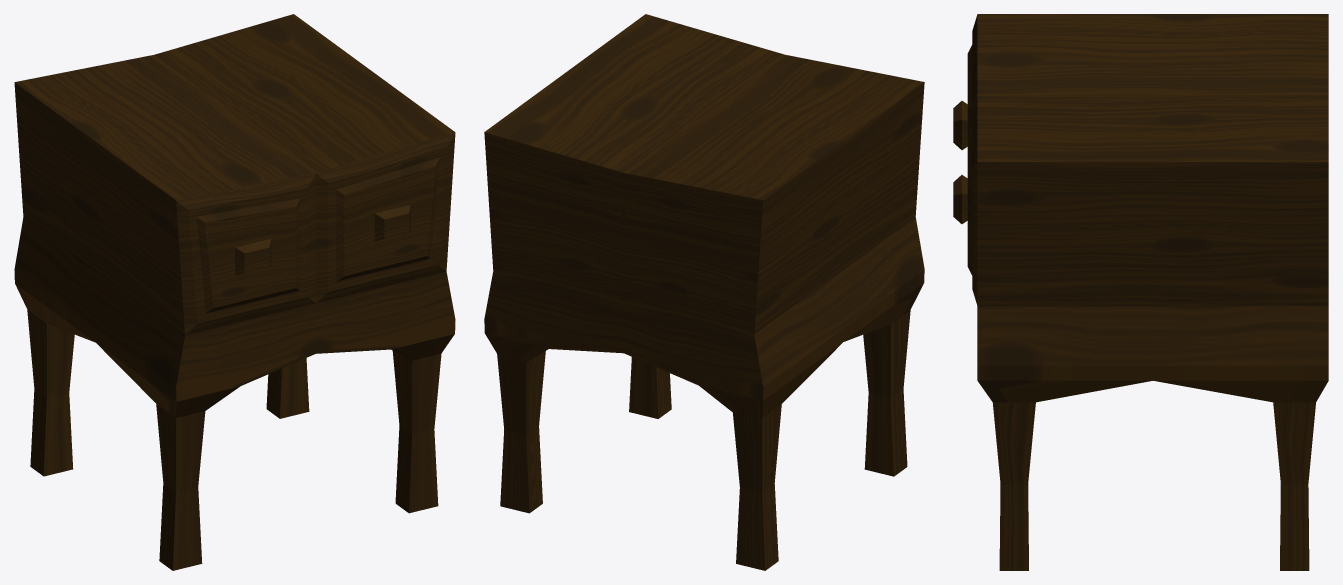
File: Comoda1.fbx
3 views of the same model, side by side, from view 1: azimuth 30°, elevation 25°; view 2: azimuth 150°, elevation 25°; view 3: azimuth 270°, elevation 25° (orthographic). The views are drawn at different scales.
Visible parts, largest first — view 1: Comoda1; view 2: Comoda1; view 3: Comoda1.
Boxes of the visible parts, x1,y1,x2,y2 form: Comoda1: (14,14,455,570); Comoda1: (484,14,924,570); Comoda1: (953,14,1328,570).
Size of the model in its own units: 0.6914 by 0.8979 by 0.7407.
